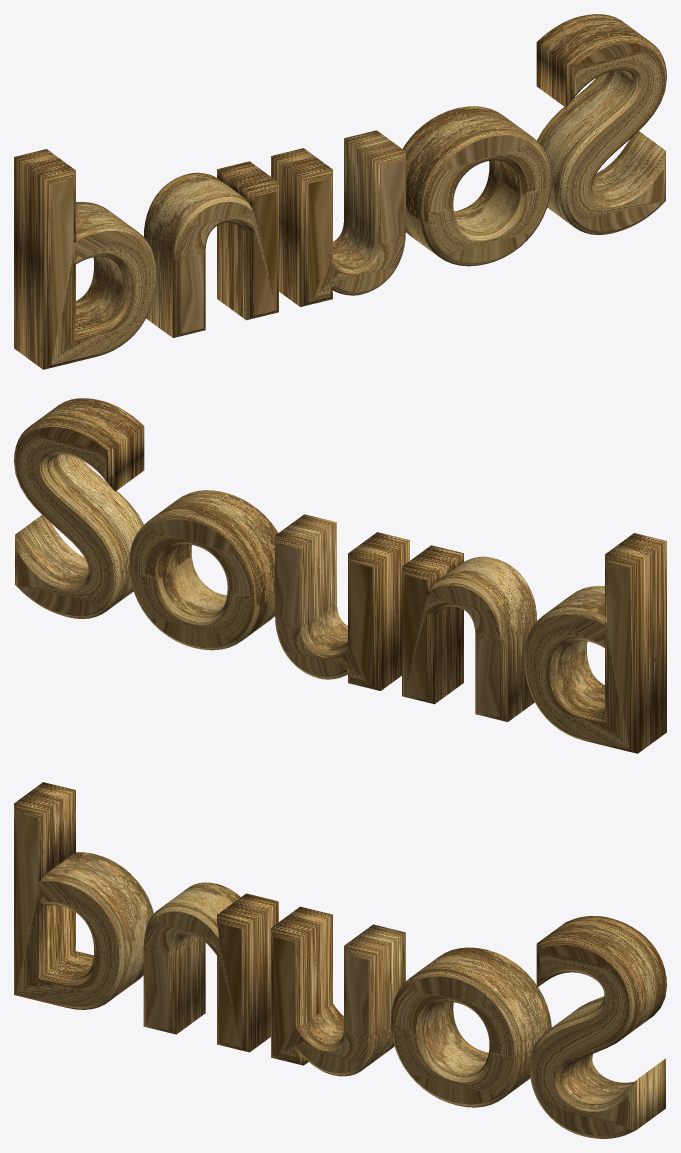
File: Sound.obj
3 renders of one model, top to bottom at view 1: azimuth 30°, elevation 25°; view 2: azimuth 150°, elevation 25°; view 3: azimuth 330°, elevation 25°, orthographic.
Visible parts, largest first — view 1: Text; view 2: Text; view 3: Text.
Boxes of the visible parts, x1,y1,x2,y2 form: Text: [14, 14, 666, 369]; Text: [14, 398, 666, 753]; Text: [14, 782, 666, 1138].
Size of the model in its own units: 2.46 by 0.74 by 0.24.
Materials: 1 (1 with a texture image).
